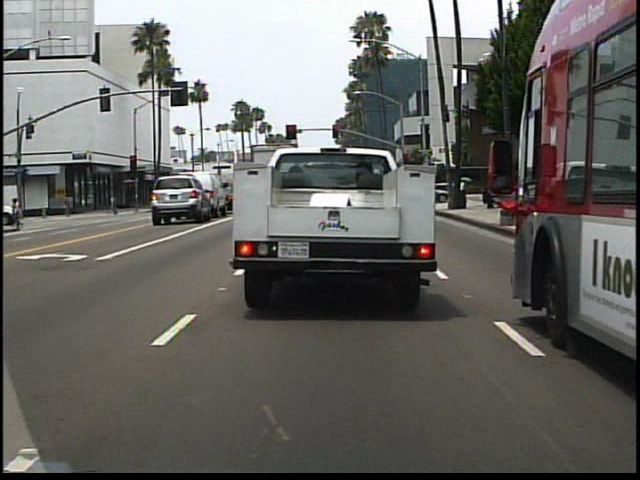person: (63, 191, 77, 218)
